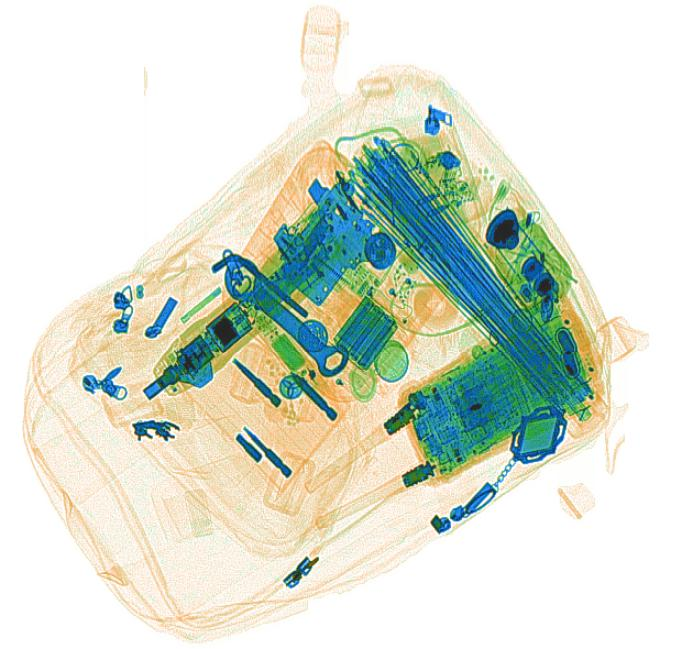battery: (332, 292, 401, 374)
